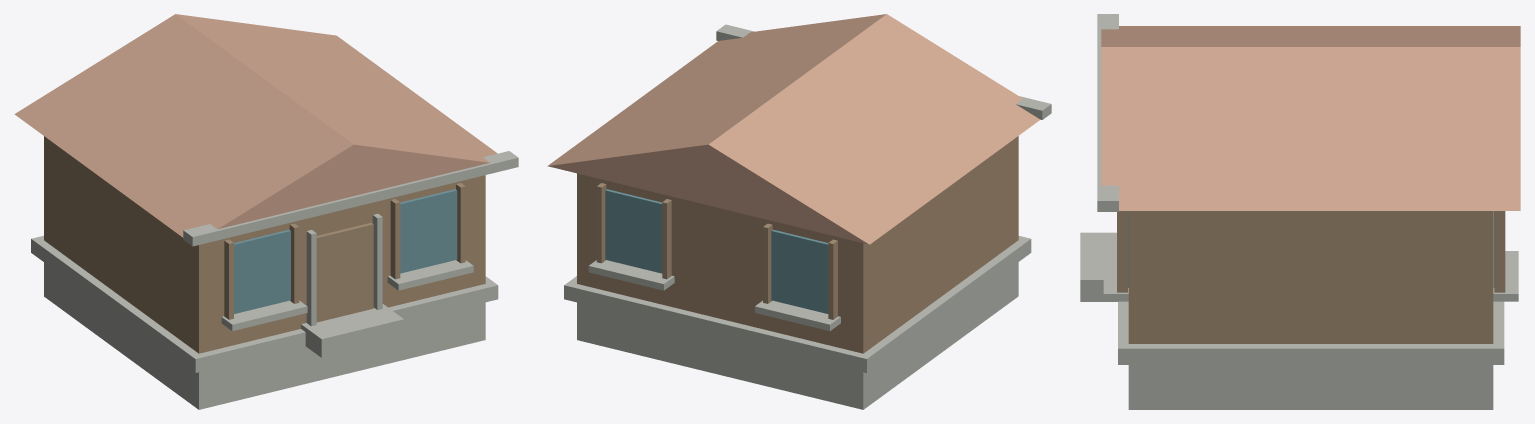
File: farm-0.glb
The picture shows the model from 3 angles, left to right: view 1: azimuth 30°, elevation 25°; view 2: azimuth 150°, elevation 25°; view 3: azimuth 270°, elevation 25°; orthographic projection. The views are drawn at different scales.
Bounding box in the file's own units: 3.64 × 2.55 × 3.62.
